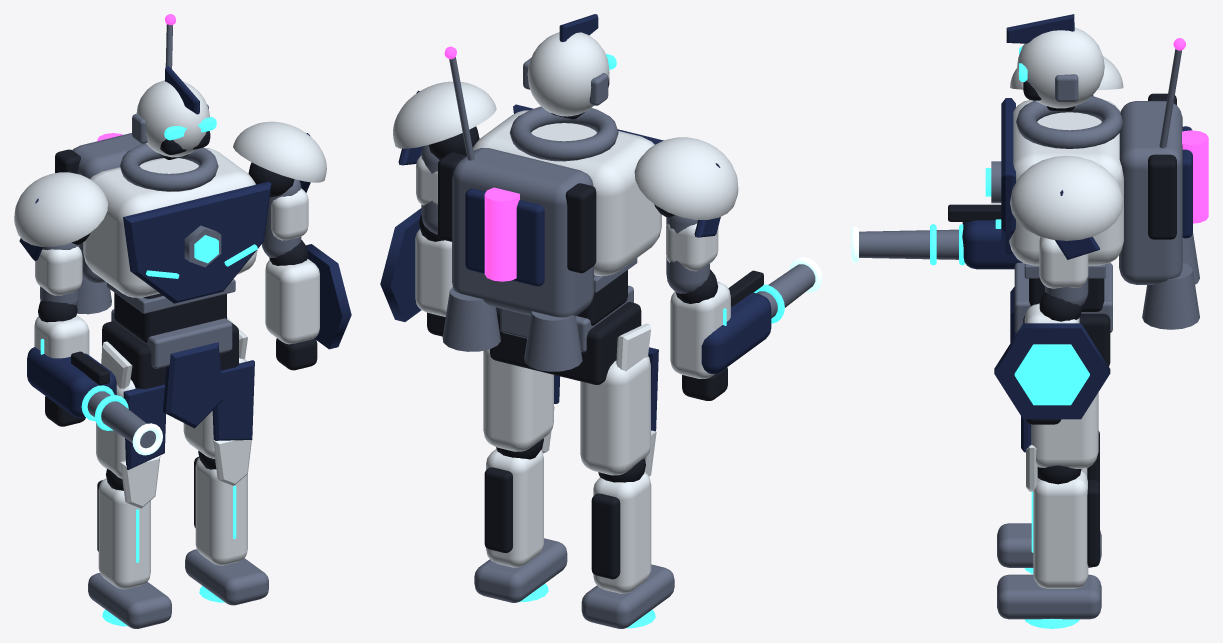
Rendered from commander.glb.
3 renders of one model, left to right at view 1: azimuth 30°, elevation 25°; view 2: azimuth 150°, elevation 25°; view 3: azimuth 270°, elevation 25°, orthographic. The views are drawn at different scales.
Visible parts, largest first — view 1: torso:plate, torso:hull, armR:hull, torso:alloy, shinR:hull, shinL:hull, armL:hull, foreL:hull, pelvis:plate, torso:dark, head:hull, foreR:plate (+24 smaller); view 2: torso:alloy, torso:hull, armR:hull, legR:hull, jets:alloy, legL:hull, armL:hull, torso:dark, head:hull, shinR:hull, torso:plate, shinL:hull (+20 smaller); view 3: torso:alloy, armL:hull, shinL:hull, torso:hull, foreL:plate, head:hull, shinL:alloy, torso:dark, foreL:glow, legL:hull, jets:alloy, torso:plate (+15 smaller).
Boxes of the visible parts, x1,y1,x2,y2 form: torso:plate: (123, 181, 271, 303); torso:hull: (83, 148, 257, 297); armR:hull: (14, 172, 107, 295); torso:alloy: (72, 24, 235, 313); shinR:hull: (98, 455, 160, 589); shinL:hull: (195, 432, 252, 565); armL:hull: (233, 121, 326, 240); foreL:hull: (265, 259, 319, 344); pelvis:plate: (163, 342, 223, 428); torso:dark: (55, 149, 226, 342); head:hull: (136, 80, 209, 157); foreR:plate: (27, 347, 116, 417); torso:alloy: (449, 57, 637, 317); torso:hull: (472, 110, 661, 275); armR:hull: (634, 137, 738, 271); legR:hull: (580, 356, 650, 475); jets:alloy: (442, 287, 582, 371); legL:hull: (483, 349, 553, 451); armL:hull: (393, 81, 496, 205); torso:dark: (438, 152, 627, 325); head:hull: (527, 32, 609, 116); shinR:hull: (593, 430, 656, 593); torso:plate: (465, 104, 663, 286); shinL:hull: (486, 406, 554, 567); torso:alloy: (991, 49, 1182, 284); armL:hull: (1010, 155, 1123, 288); shinL:hull: (1026, 444, 1088, 588); torso:hull: (1009, 100, 1123, 265); foreL:plate: (994, 323, 1110, 419); head:hull: (1017, 27, 1104, 108); shinL:alloy: (997, 574, 1101, 619); torso:dark: (1029, 93, 1176, 311); foreL:glow: (1014, 344, 1089, 405); legL:hull: (1031, 392, 1098, 468); jets:alloy: (1142, 233, 1199, 329); torso:plate: (1001, 98, 1192, 254).
Bounding box in the file's own units: 1.3 × 2.21 × 1.23.
